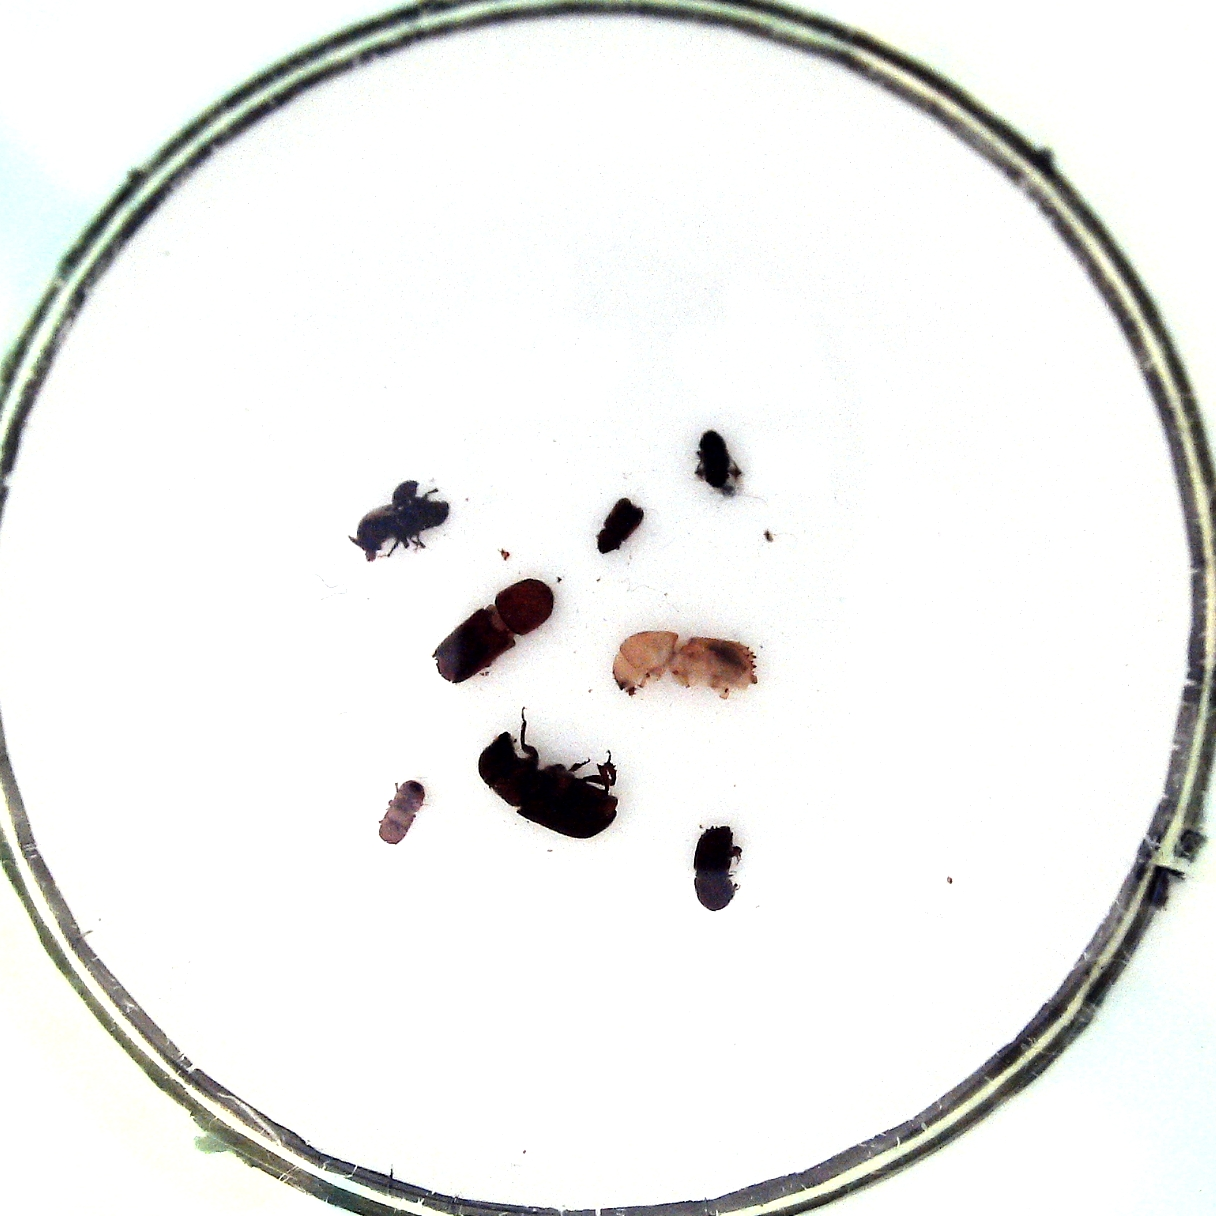Boerner: (431, 579, 555, 683), (612, 630, 759, 696)
Leconte: (479, 730, 619, 839)
acuminatus: (698, 430, 730, 489)
armandi: (356, 481, 449, 551)
coleoptera: (377, 781, 426, 844), (596, 498, 644, 555)
linnaeus: (694, 825, 736, 911)
